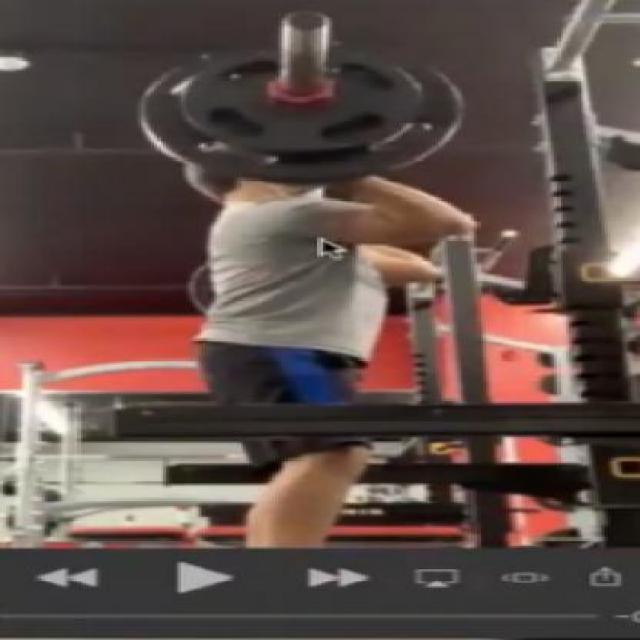Barbell: (280, 8, 336, 34)
